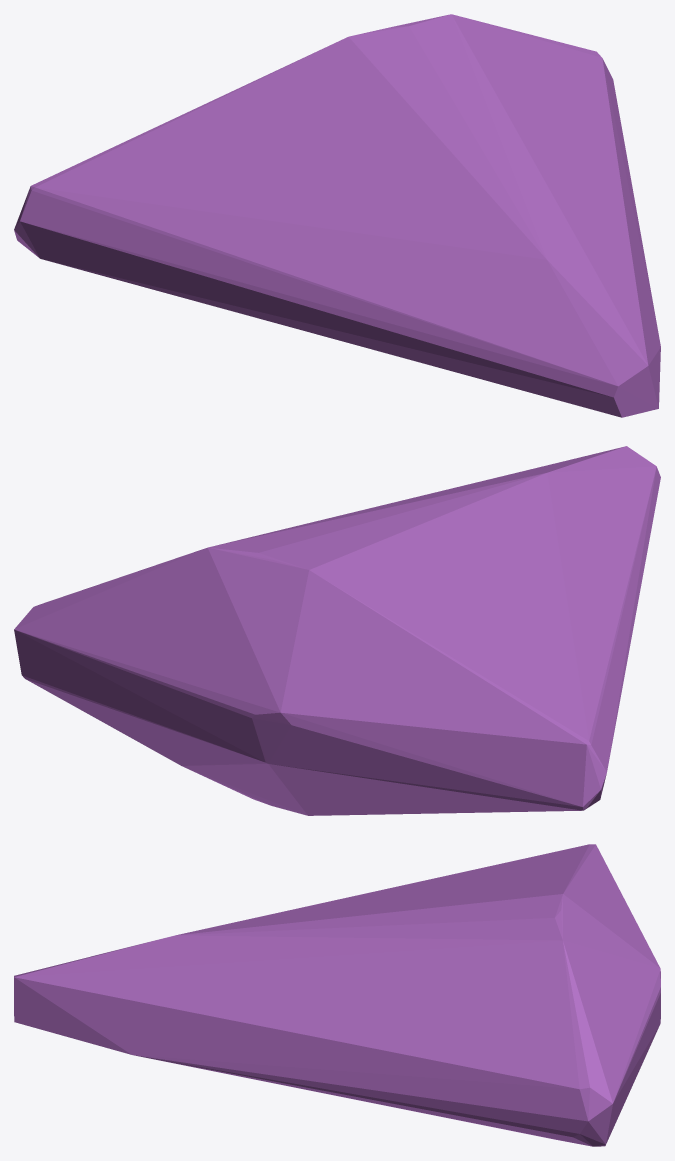
The model's file is pendant_medical_a01.glb.
3 renders of one model, top to bottom at view 1: azimuth 30°, elevation 25°; view 2: azimuth 150°, elevation 25°; view 3: azimuth 270°, elevation 25°, orthographic. The views are drawn at different scales.
Parts seen in each view (by area): view 1: geometry_0; view 2: geometry_0; view 3: geometry_0.
Boxes of the visible parts, x1=… form: geometry_0: x1=14, y1=14, x2=660, y2=417; geometry_0: x1=14, y1=446, x2=660, y2=815; geometry_0: x1=14, y1=844, x2=660, y2=1146.
Bounding box in the file's own units: 0.4498 × 0.1805 × 0.48.
